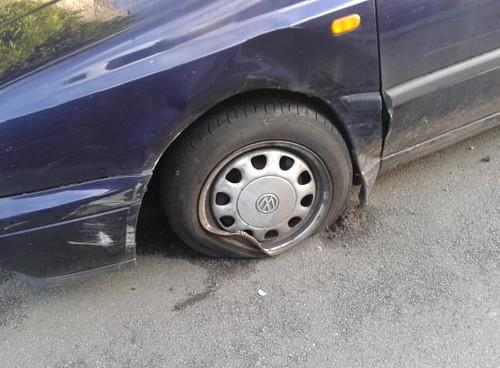fender-dent: (129, 16, 432, 206), (0, 188, 145, 275)
